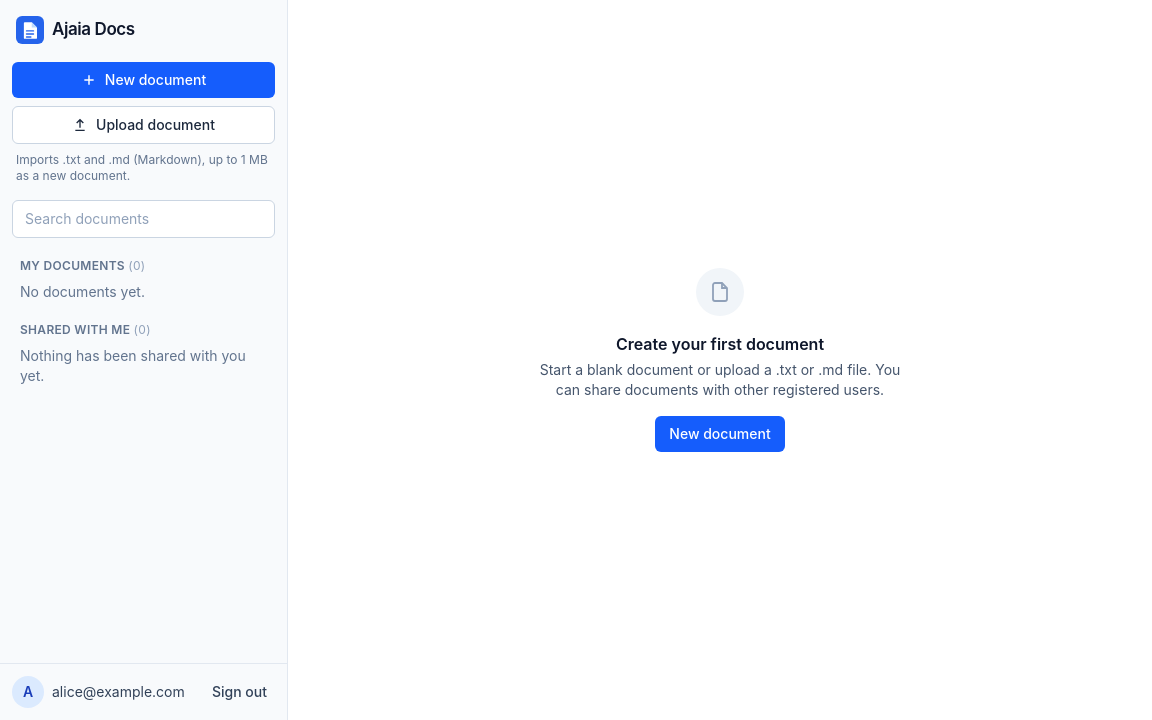
Test: Workspace › does not list a new document twice if a list refresh already returned it
Expected: the text "No documents yet." is shown, x1=20 y1=283 x2=145 y2=300
Step 1. Click the button "New document" below "Ajaia Docs" → (144, 80), box x1=12 y1=62 x2=275 y2=98
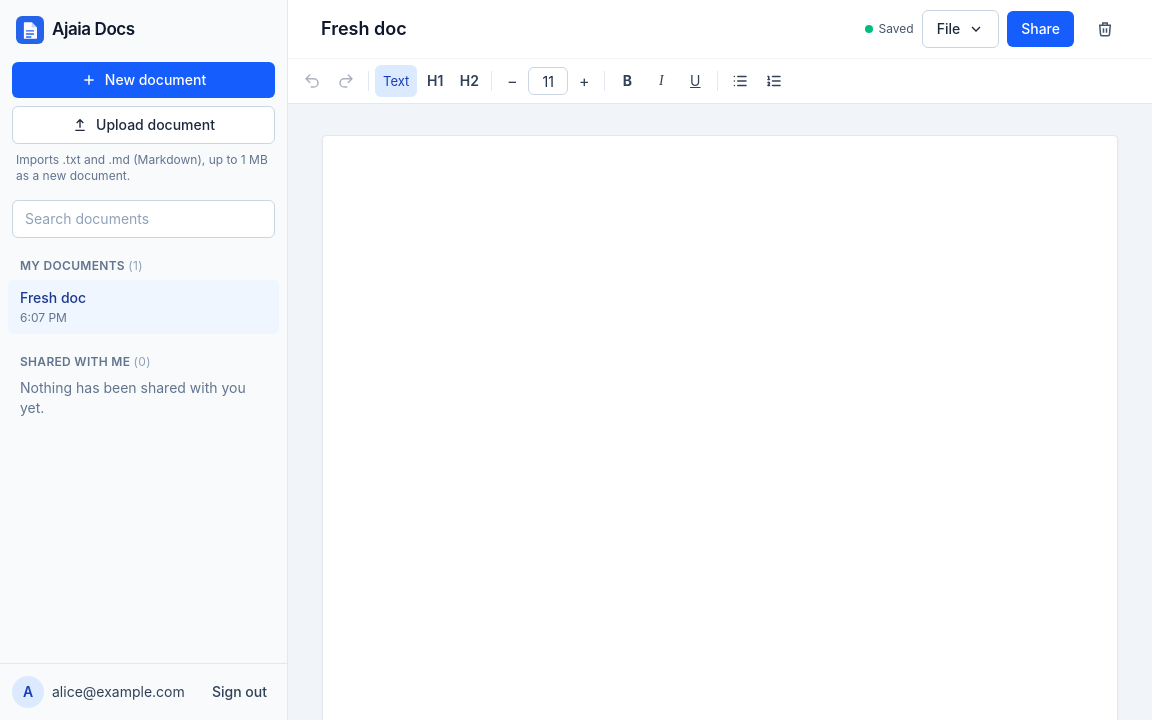
Expected: the field named "Document title" holds "Fresh doc", x1=312 y1=10 x2=852 y2=48
Expected: the text "Fresh doc" is shown once, x1=20 y1=289 x2=86 y2=306
